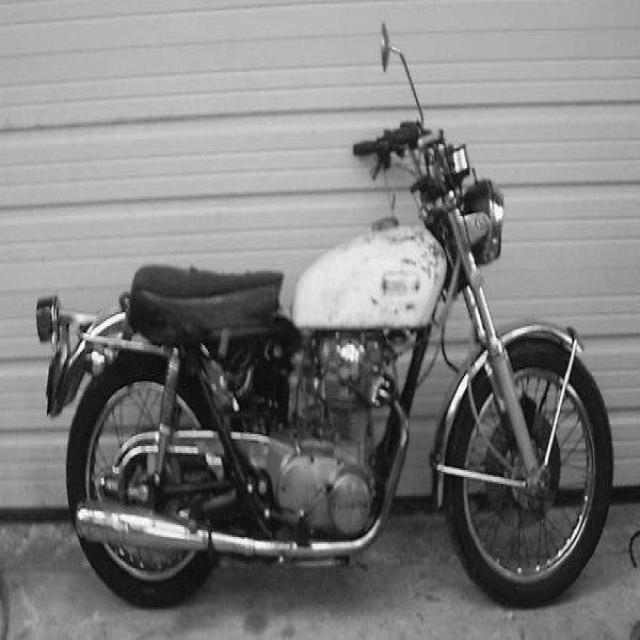Motorcycle: (36, 119, 614, 606)
